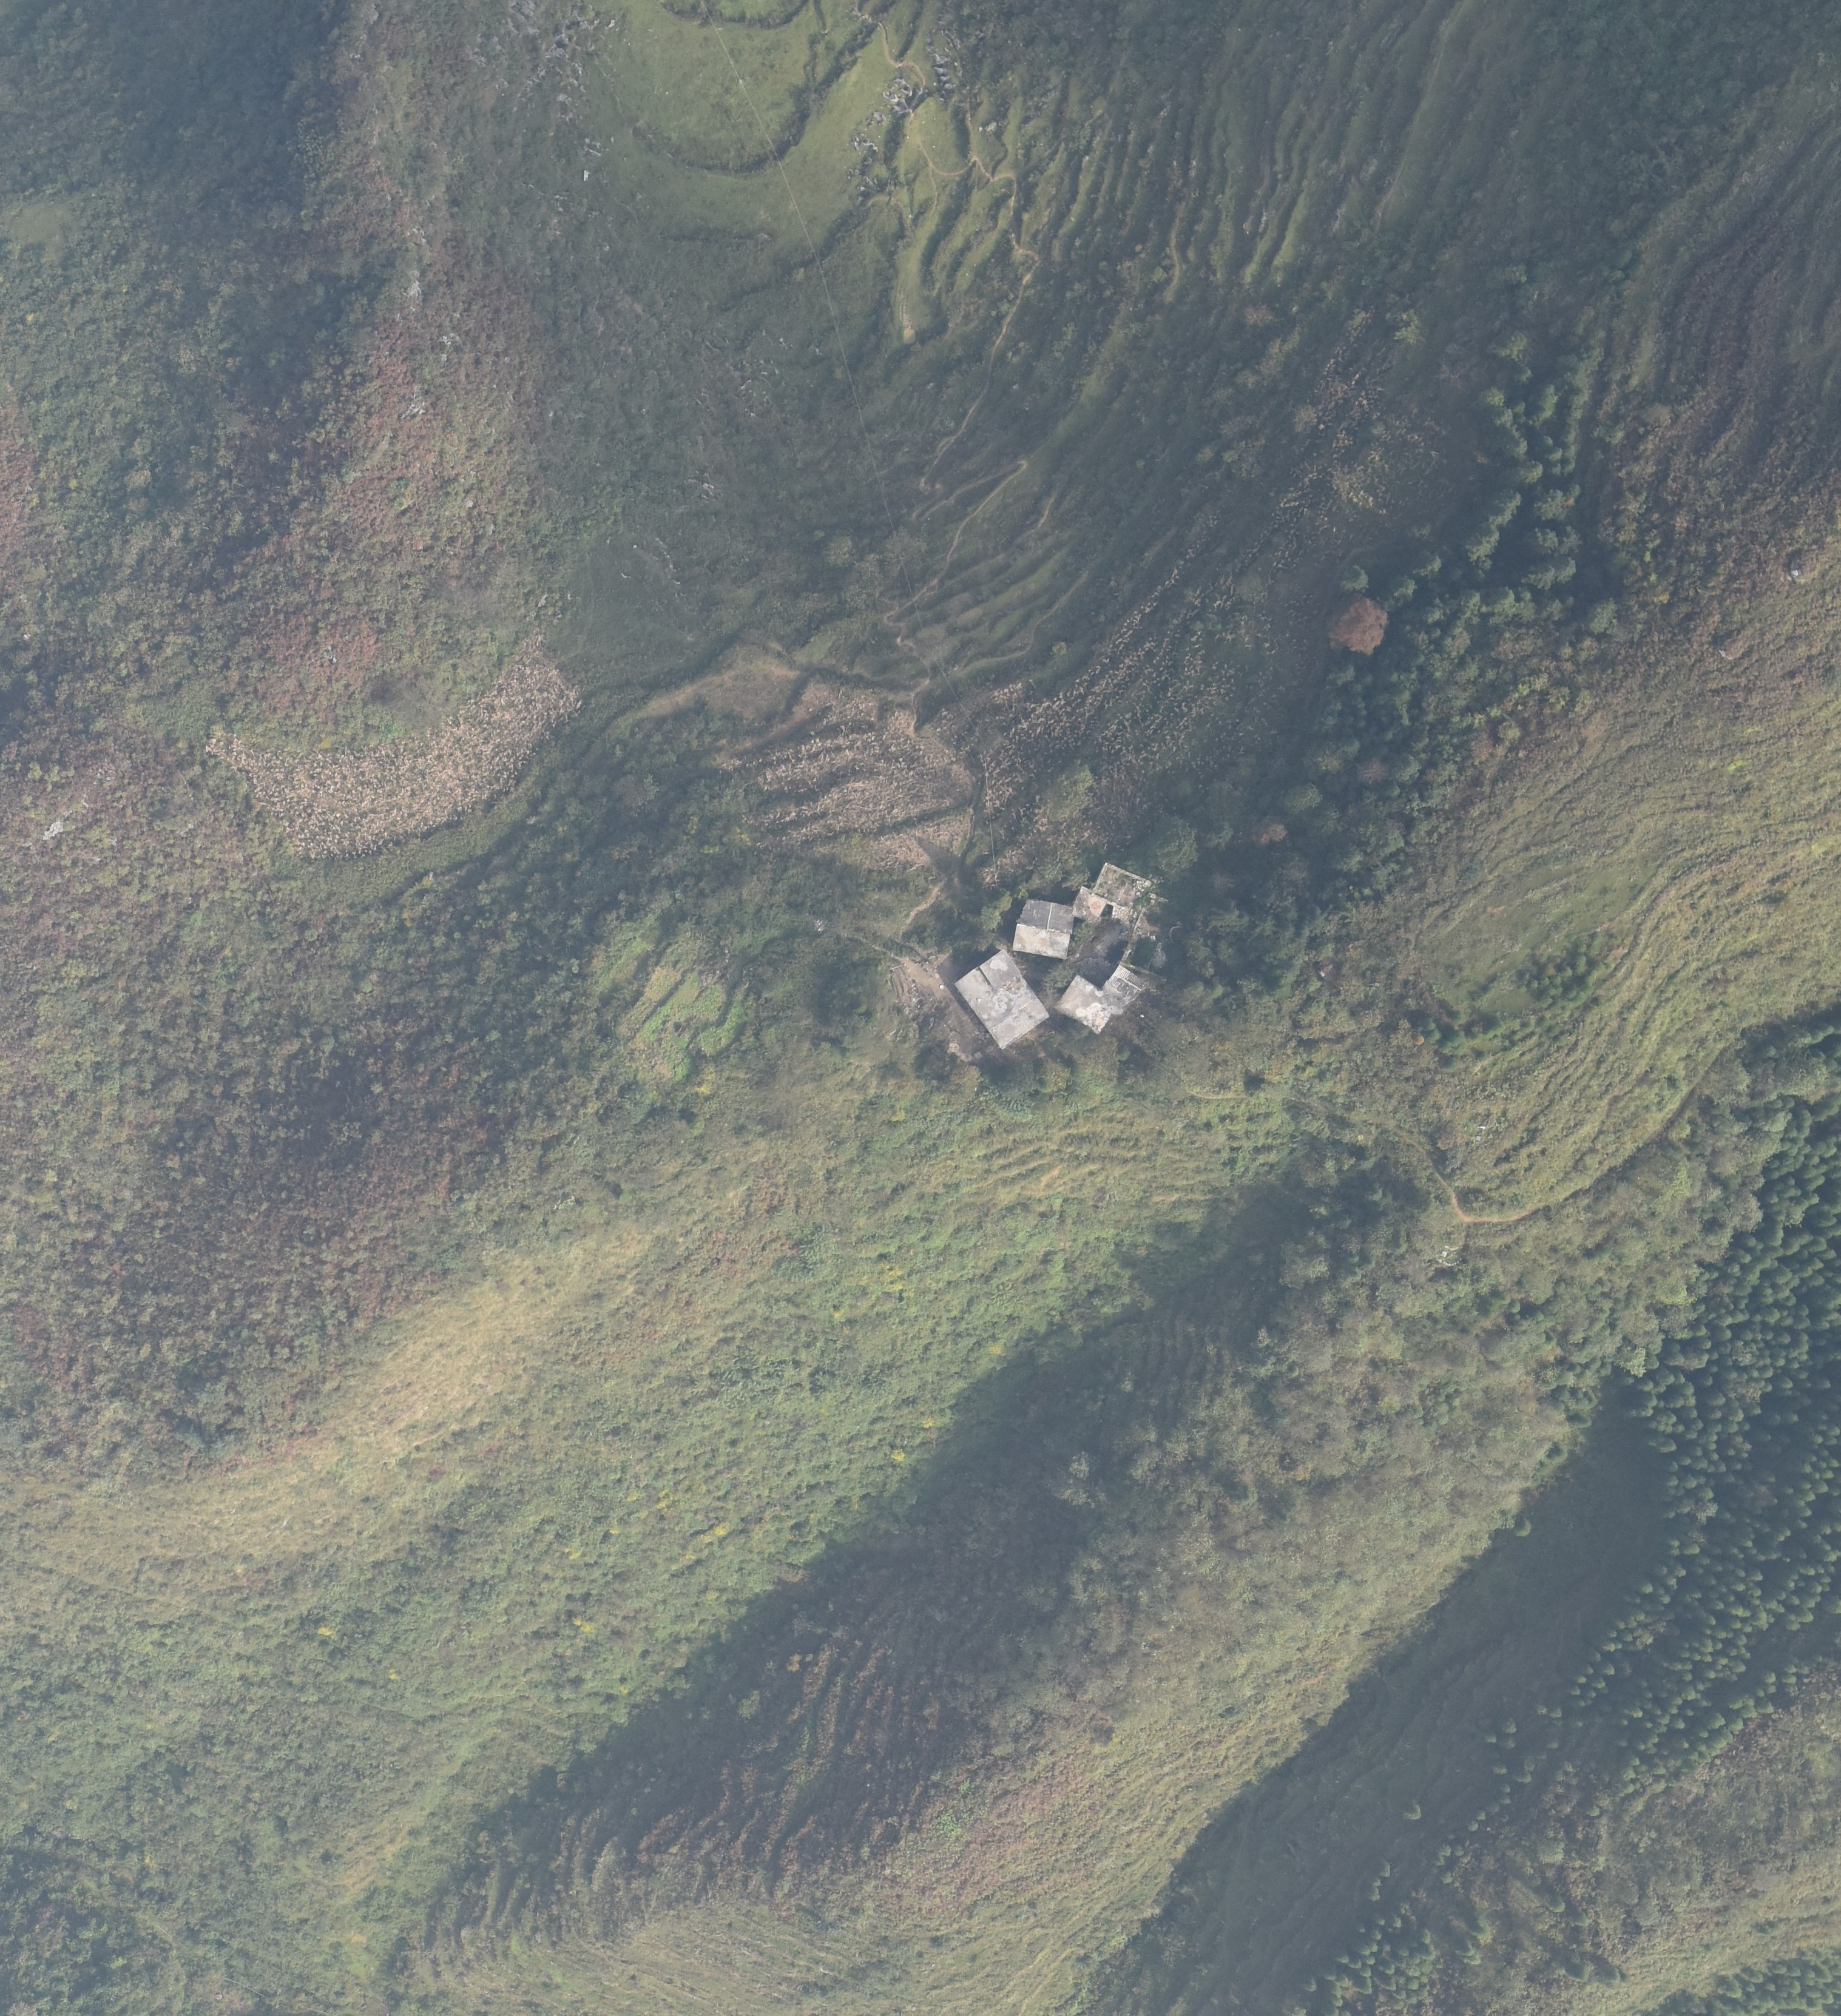building: (954, 948, 1048, 1047), (1058, 965, 1150, 1033), (1092, 864, 1150, 912), (1012, 922, 1071, 960), (1018, 898, 1076, 932), (1073, 887, 1106, 922)
